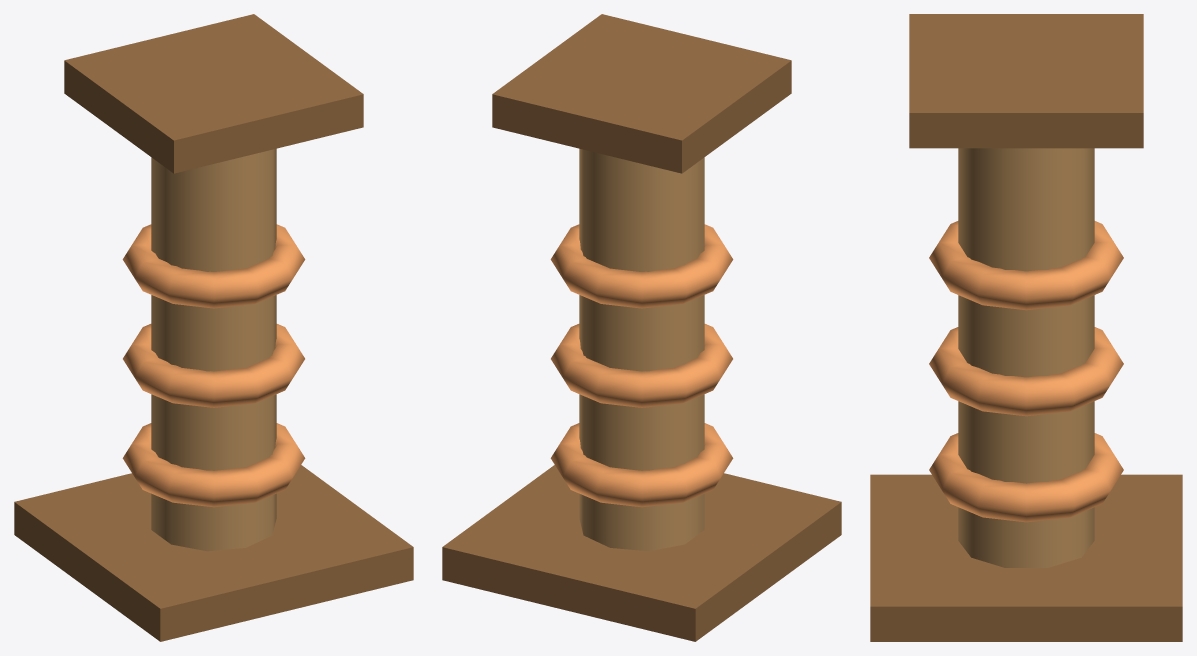
Rendered from scratching_post.glb.
3 renders of one model, left to right at view 1: azimuth 30°, elevation 25°; view 2: azimuth 150°, elevation 25°; view 3: azimuth 270°, elevation 25°, orthographic. The views are drawn at different scales.
Visible parts, largest first — view 1: scratching_post; view 2: scratching_post; view 3: scratching_post.
Part boxes in pixels (bbox=[...]): scratching_post: bbox=[14, 14, 413, 641]; scratching_post: bbox=[442, 14, 841, 641]; scratching_post: bbox=[870, 14, 1182, 641].
Size of the model in its own units: 16 by 29 by 16.
